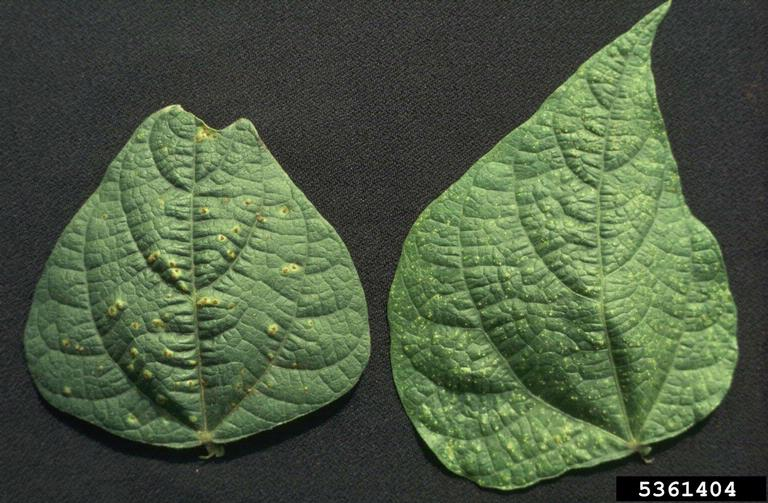StringBeans_BeanRust: (34, 109, 374, 458), (396, 141, 745, 471)
